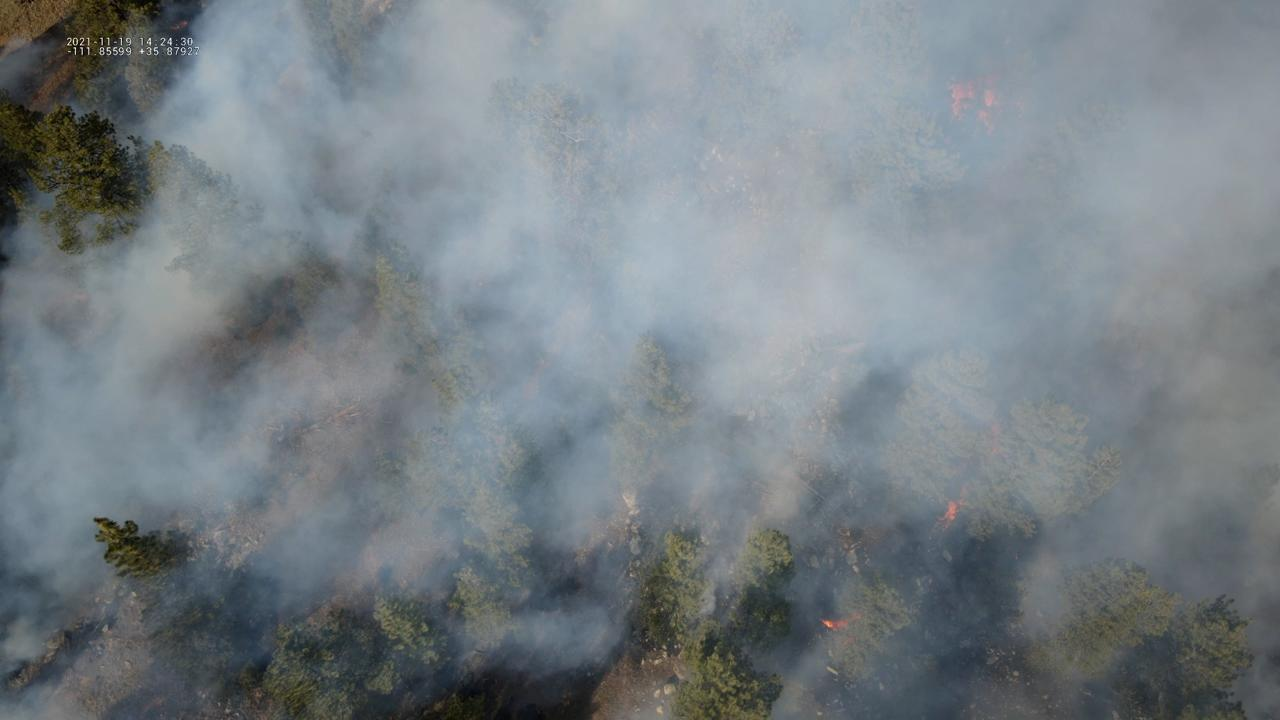fire: (946, 77, 974, 118), (937, 499, 959, 529), (820, 618, 850, 631), (981, 86, 995, 106), (167, 19, 190, 31)
smoke: (0, 0, 1280, 720)
